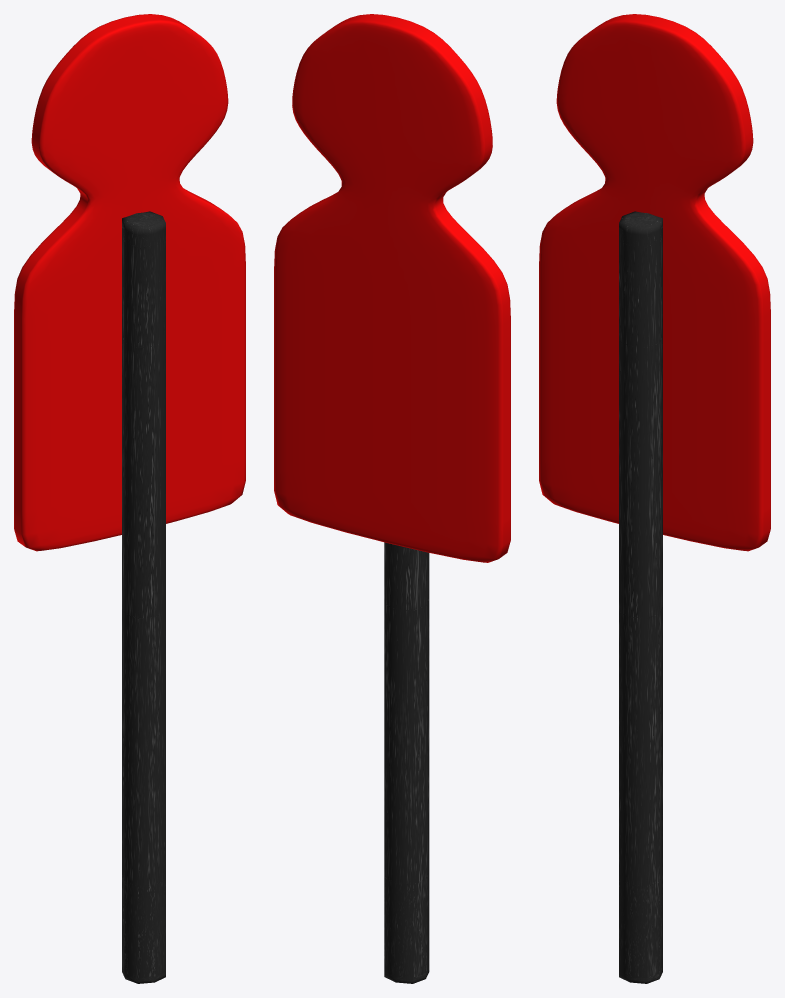
File: shtfrtr.obj
The picture shows the model from 3 angles, left to right: view 1: azimuth 30°, elevation 25°; view 2: azimuth 150°, elevation 25°; view 3: azimuth 330°, elevation 25°; orthographic projection. The views are drawn at different scales.
Visible parts, largest first — view 1: Plane, Cube.031_Cube.025; view 2: Plane, Cube.031_Cube.025; view 3: Plane, Cube.031_Cube.025.
Part boxes in pixels (box(x1,y1,x2,y2)): Plane: box(14, 14, 245, 551); Cube.031_Cube.025: box(122, 211, 165, 983); Plane: box(274, 14, 510, 562); Cube.031_Cube.025: box(384, 542, 429, 983); Plane: box(539, 14, 770, 551); Cube.031_Cube.025: box(619, 211, 662, 983).
Size of the model in its own units: 2.62 by 10.59 by 0.6285.
